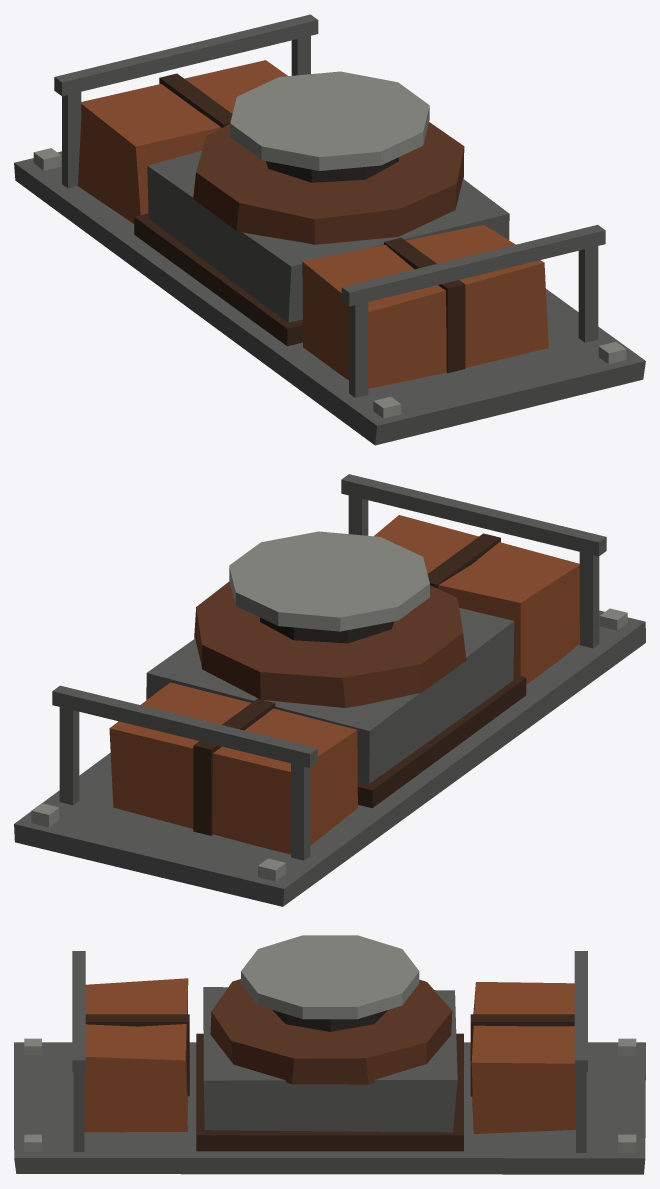
File: wmount_cradle.glb
3 renders of one model, top to bottom at view 1: azimuth 30°, elevation 25°; view 2: azimuth 150°, elevation 25°; view 3: azimuth 270°, elevation 25°, orthographic. The views are drawn at different scales.
Parts seen in each view (by area): view 1: wmount_cradle; view 2: wmount_cradle; view 3: wmount_cradle.
Boxes of the visible parts, left/top/right/bottom form: wmount_cradle: left=14, top=14, right=645, bottom=445; wmount_cradle: left=14, top=474, right=645, bottom=906; wmount_cradle: left=14, top=935, right=645, bottom=1174.
Bounding box in the file's own units: 0.6131 × 0.3624 × 1.42.
